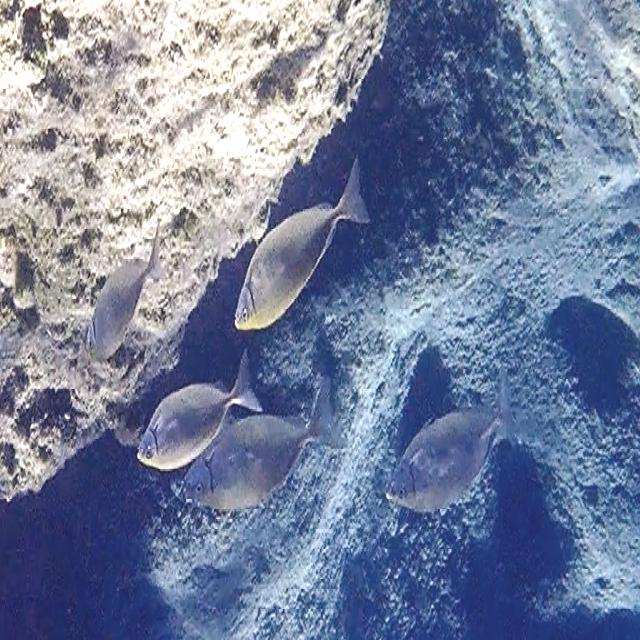Sokar Baligi: (224, 148, 368, 355), (369, 367, 520, 537), (68, 212, 174, 376)
